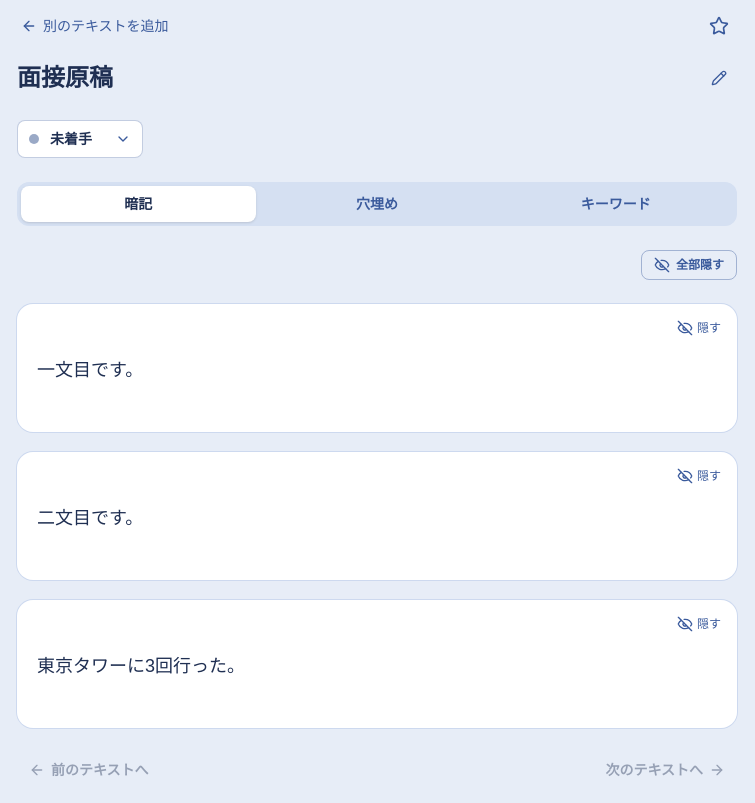
it: PracticeScreen › タイトルを編集するとlocalStorageと画面表示に反映される
This screenshot has width=755, height=803.
Click the button named "タイトルを編集": (719, 78) [701, 60, 737, 96]
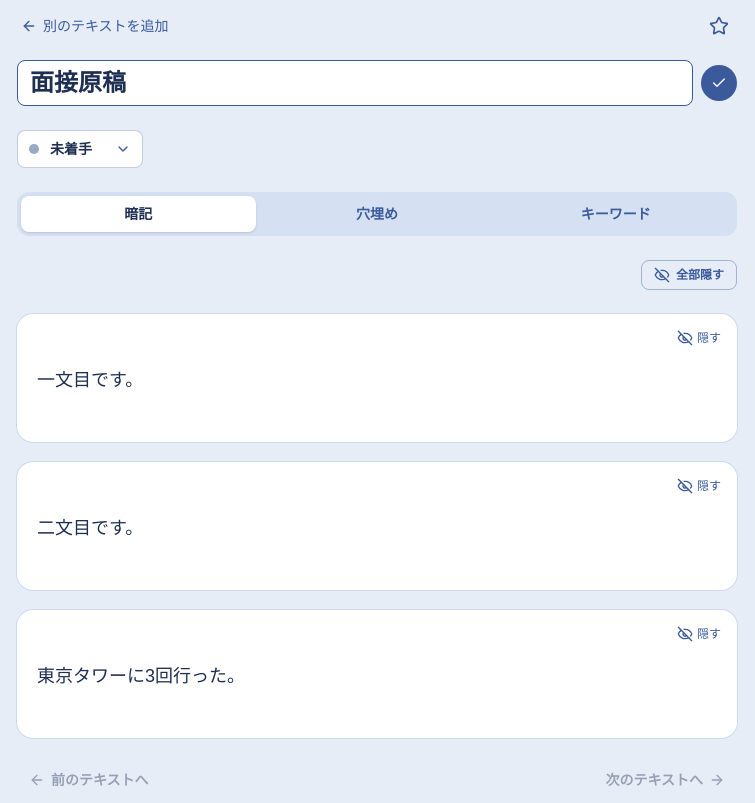
Replace the text in the field named "テキストのタイトル" with "新しいタイトル": (355, 83) [17, 60, 693, 106]
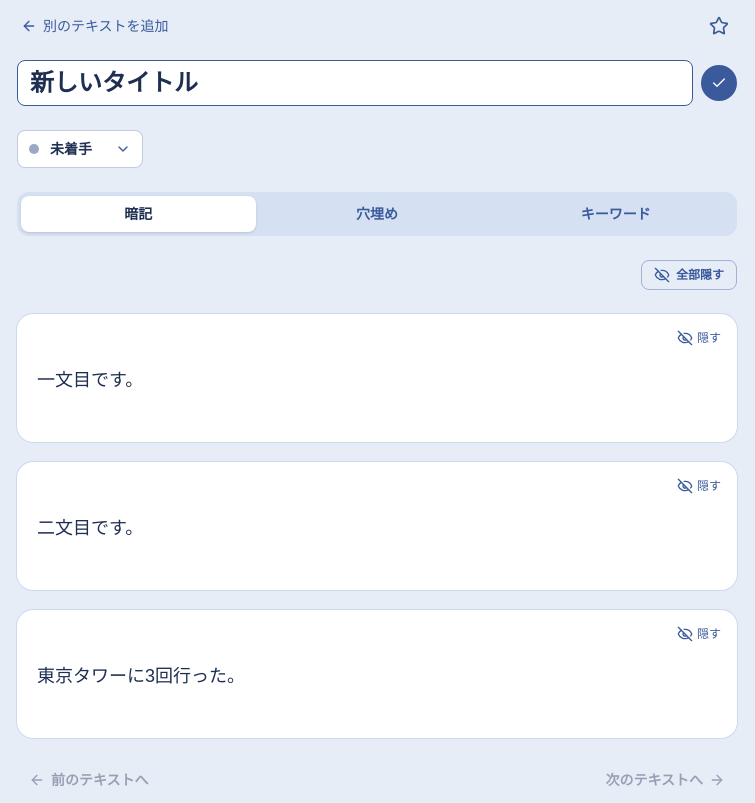
Click the button named "タイトルを確定": (719, 83) [701, 65, 737, 101]
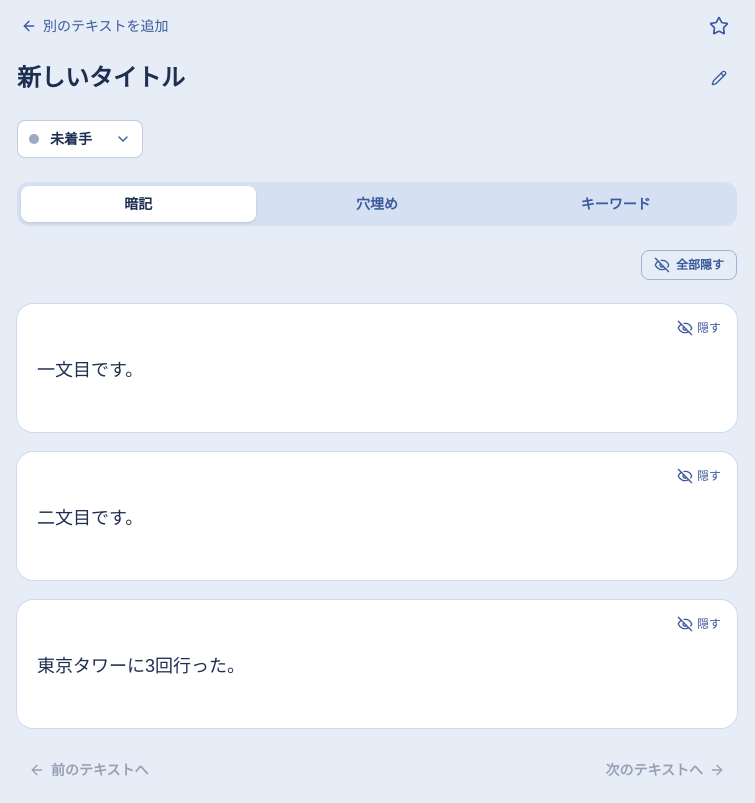
Expected: the heading "新しいタイトル" is shown, [17, 64, 185, 91]
